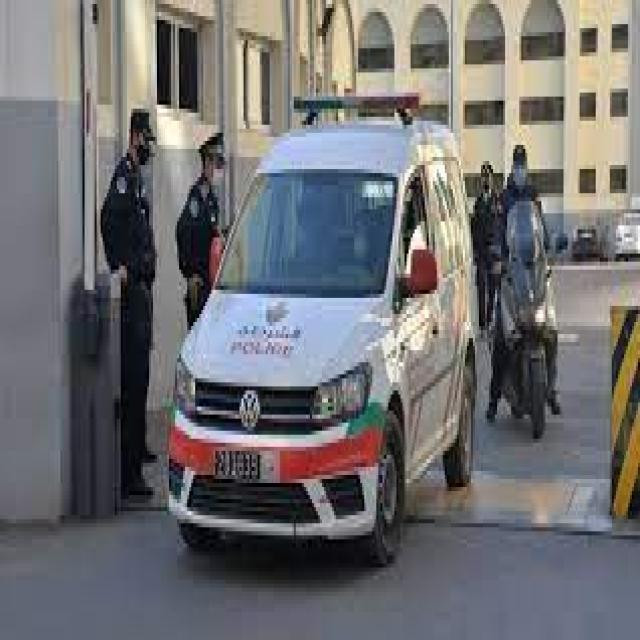Police car: (153, 76, 486, 584)
